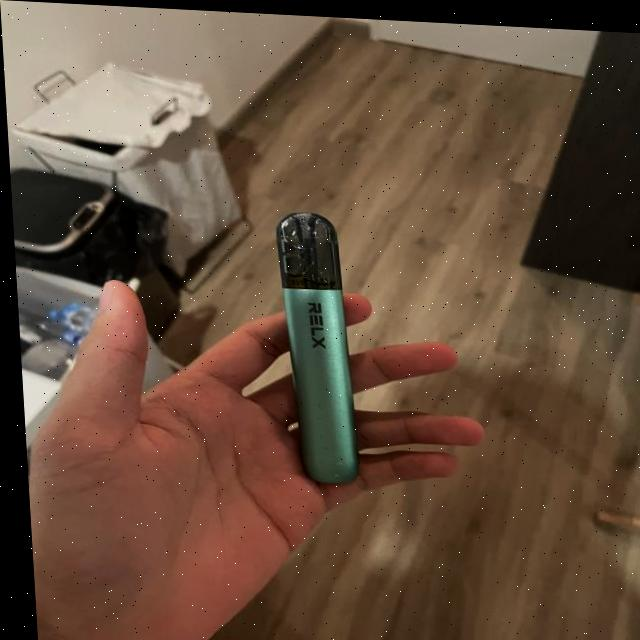vape: (273, 207, 354, 482)
